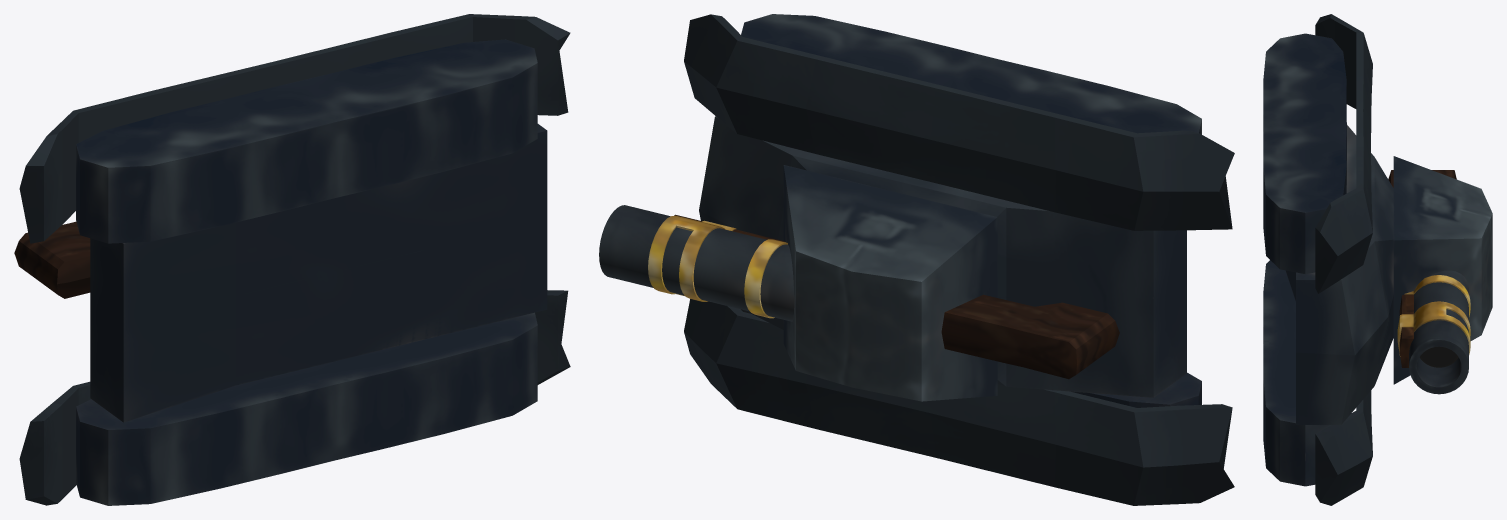
Rendered from tank2 (2).fbx.
3 renders of one model, left to right at view 1: azimuth 30°, elevation 25°; view 2: azimuth 150°, elevation 25°; view 3: azimuth 270°, elevation 25°, orthographic. The views are drawn at different scales.
Visible parts, largest first — view 1: Cube.001, Cube.002; view 2: Cube.001, Cube.002, Cube.003; view 3: Cube.001, Cube.002, Cube.003.
Boxes of the visible parts, <box> form: Cube.001: <box>19,14,570,505</box>; Cube.002: <box>14,221,90,298</box>; Cube.001: <box>684,14,1234,505</box>; Cube.002: <box>783,165,1119,401</box>; Cube.003: <box>599,205,794,321</box>; Cube.001: <box>1263,14,1393,505</box>; Cube.002: <box>1388,156,1492,384</box>; Cube.003: <box>1397,270,1470,394</box>.
Bounding box in the file's own units: 1224 × 794 × 552.
Materials: 1 (1 with a texture image).
